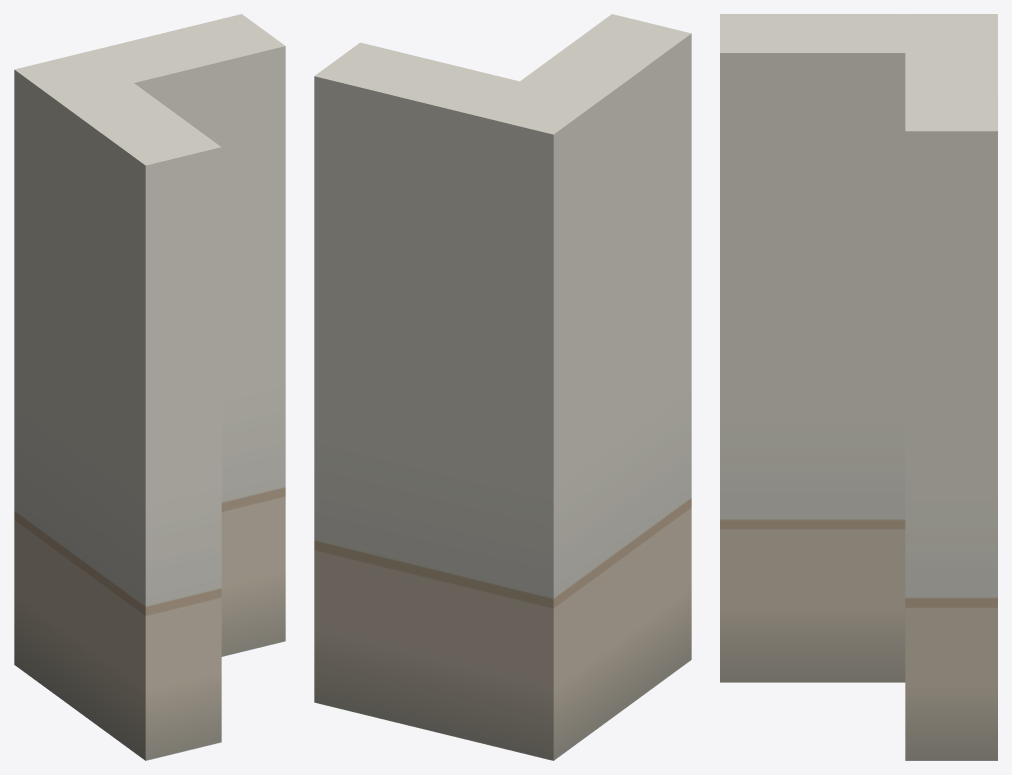
File: wall_corner_short.fbx
3 renders of one model, left to right at view 1: azimuth 30°, elevation 25°; view 2: azimuth 150°, elevation 25°; view 3: azimuth 270°, elevation 25°, orthographic. The views are drawn at different scales.
Visible parts, largest first — view 1: wall_corner_short; view 2: wall_corner_short; view 3: wall_corner_short.
Part boxes in pixels (<box>): wall_corner_short: <box>14,14,285,760</box>; wall_corner_short: <box>314,14,691,760</box>; wall_corner_short: <box>720,14,997,760</box>.
Bounding box in the file's own units: 1.2 × 3 × 1.2.
Materials: 1 (1 with a texture image).
